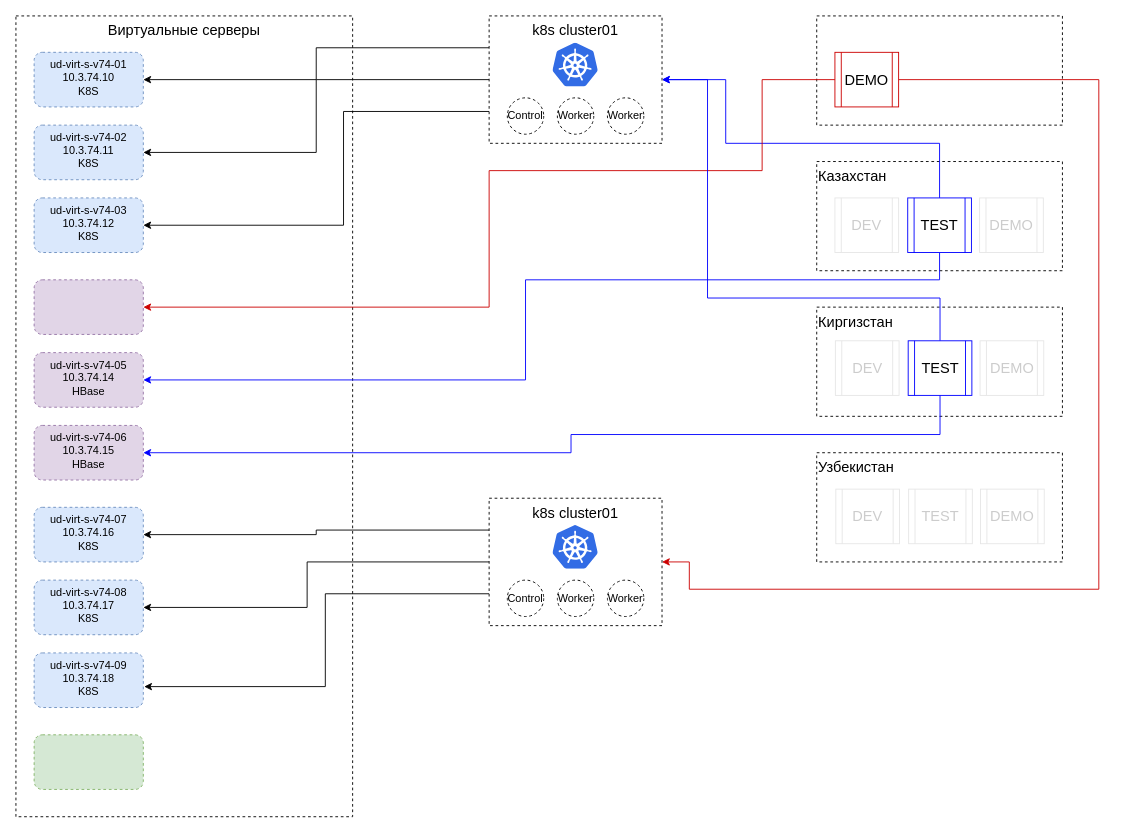
This 1122x833 diagram has some shape labels left out. Here are the shapes that lost their labels. From the top down, the box of each, then its label:
(816, 15, 1062, 125): Исследовательский стенд
(33, 279, 143, 334): ud-virt-s-v74-04 10.3.74.13 HBase
(33, 734, 143, 789): ud-virt-s-v74-10 10.3.74.19 PostgreSQL cpu 4 ram 8
